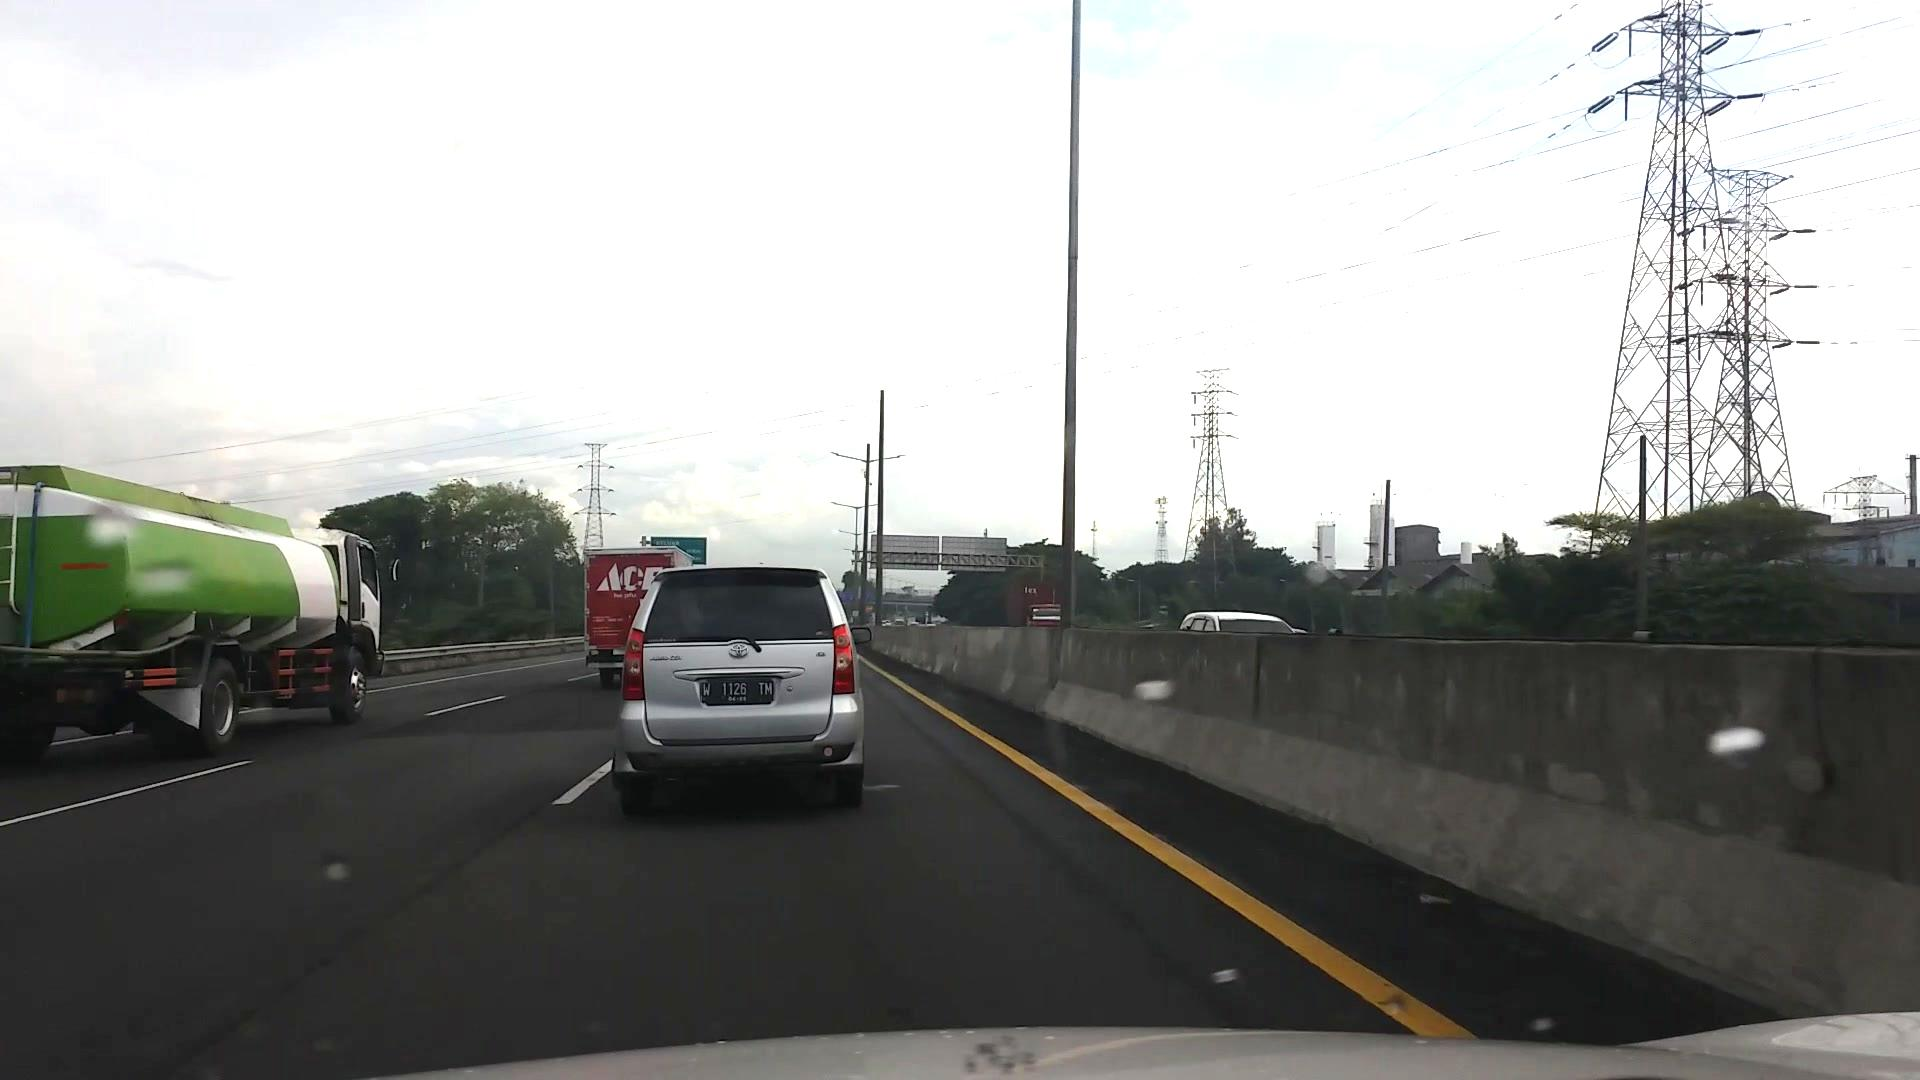plate_positive: (700, 679, 774, 704)
